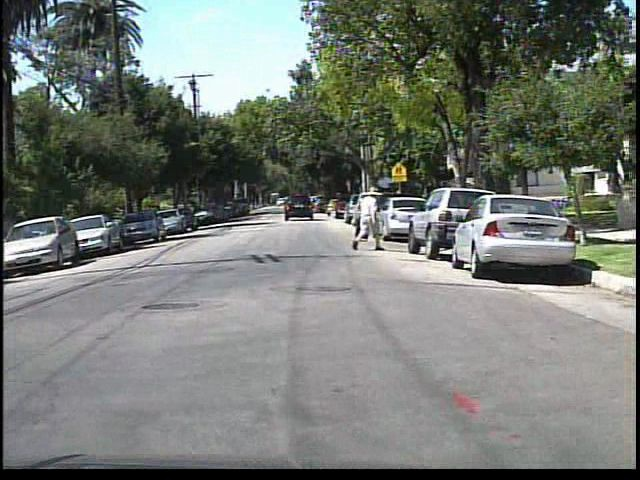person: (346, 184, 388, 254)
